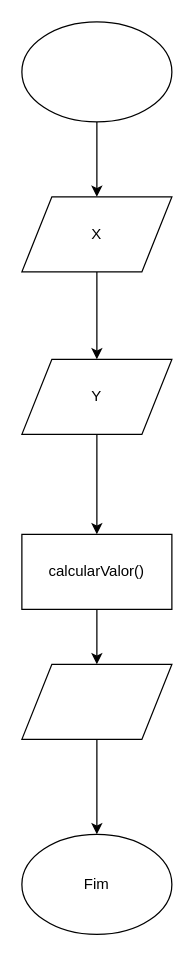
Some shapes in this 194 by 956 pixel diagram are drawn without their labels. The centre of each missing label's shape, as x and y in pixels:
"Valor" goes at (x=96, y=701).
"ínicio" goes at (x=96, y=71).
